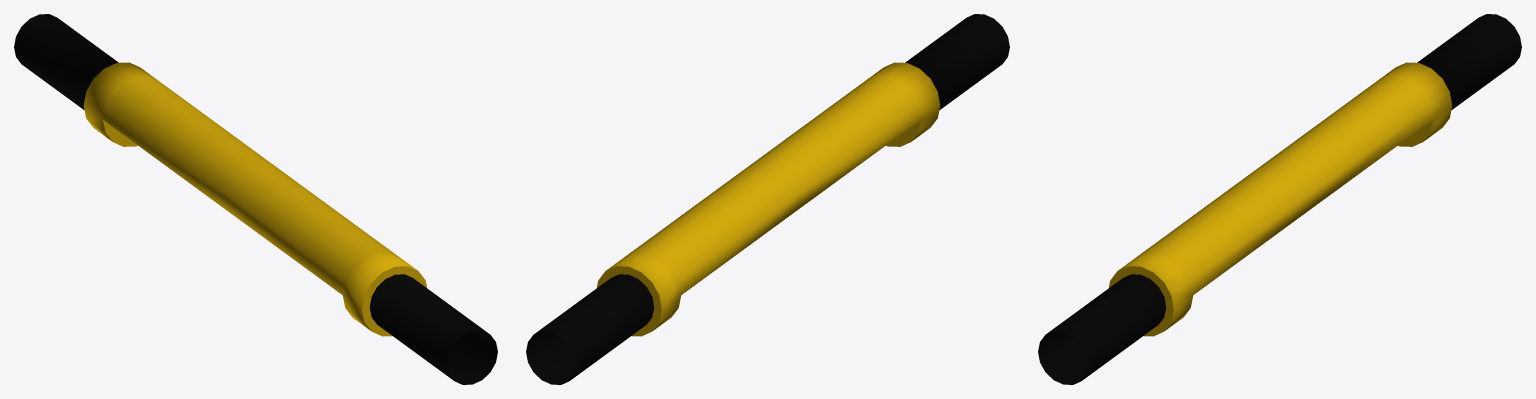
The model's file is Lamp.fbx.
3 renders of one model, left to right at view 1: azimuth 30°, elevation 25°; view 2: azimuth 150°, elevation 25°; view 3: azimuth 330°, elevation 25°, orthographic.
Parts seen in each view (by area): view 1: Circle; view 2: Circle; view 3: Circle.
Part boxes in pixels (left/top/right/bottom): Circle: left=14, top=14, right=497, bottom=384; Circle: left=526, top=14, right=1009, bottom=384; Circle: left=1038, top=14, right=1521, bottom=384.
Size of the model in its own units: 198 by 198 by 2240.
